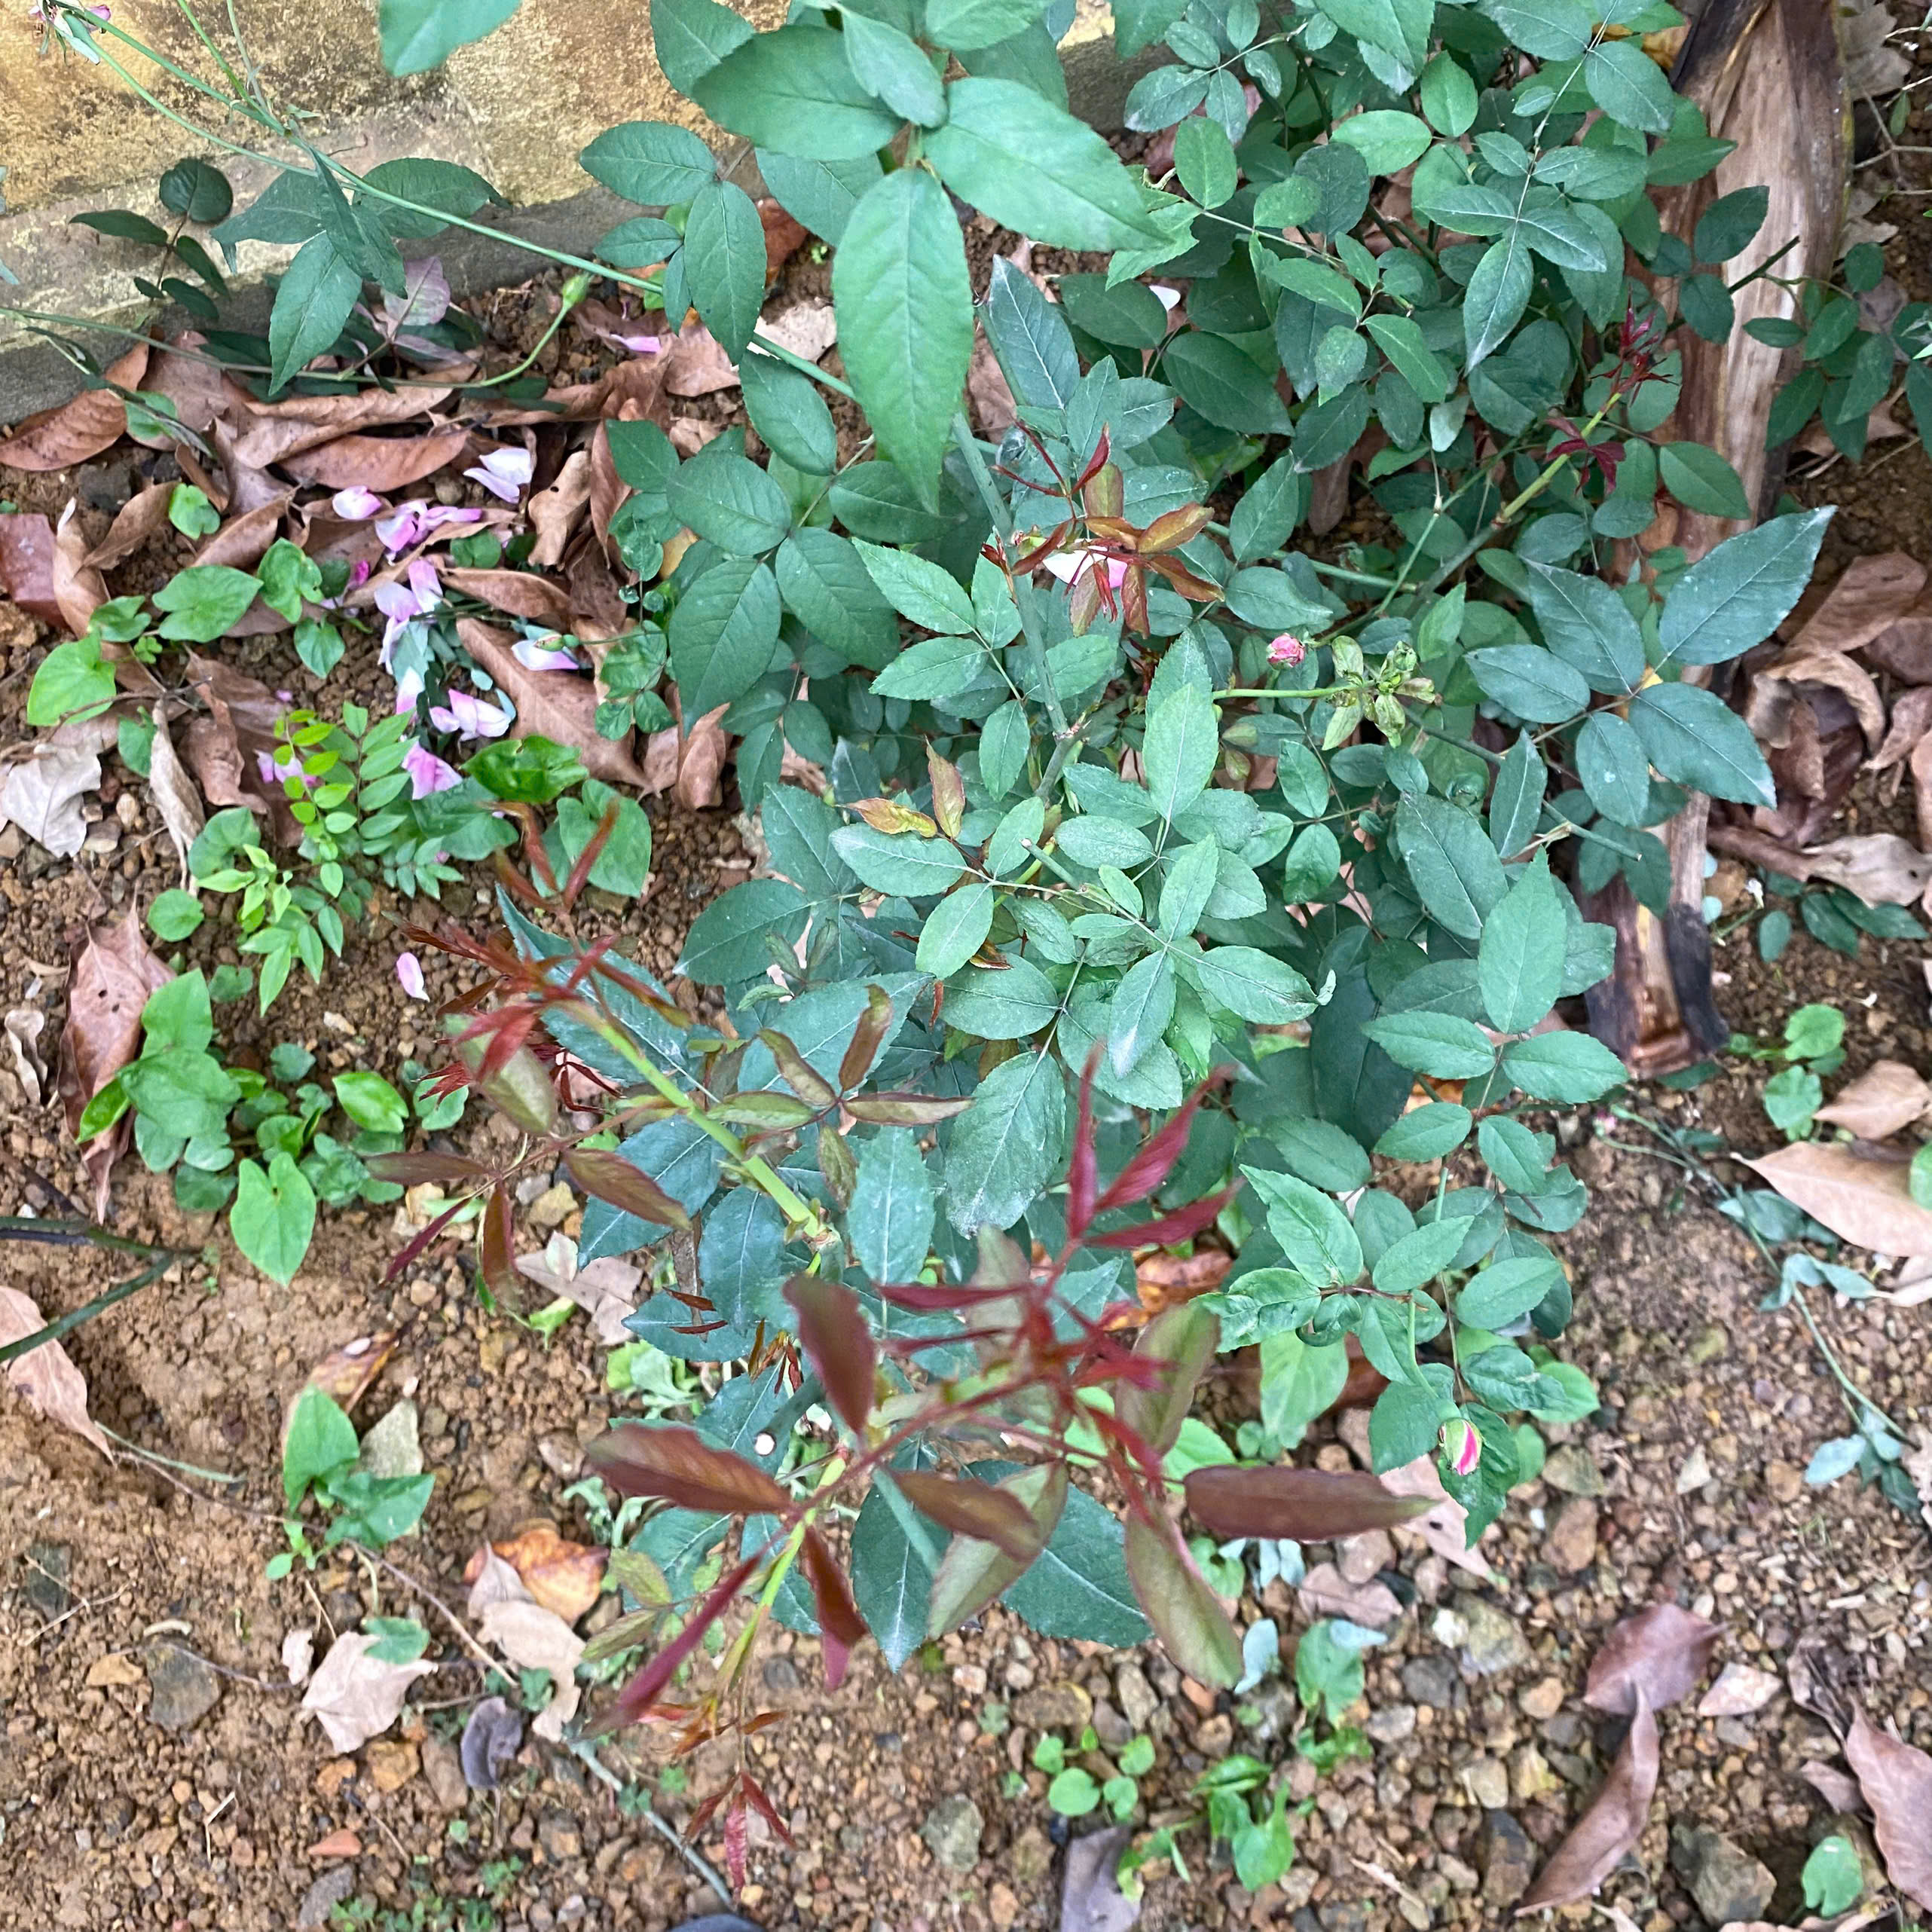hoa_hong_phan: (133, 368, 1672, 1805)
